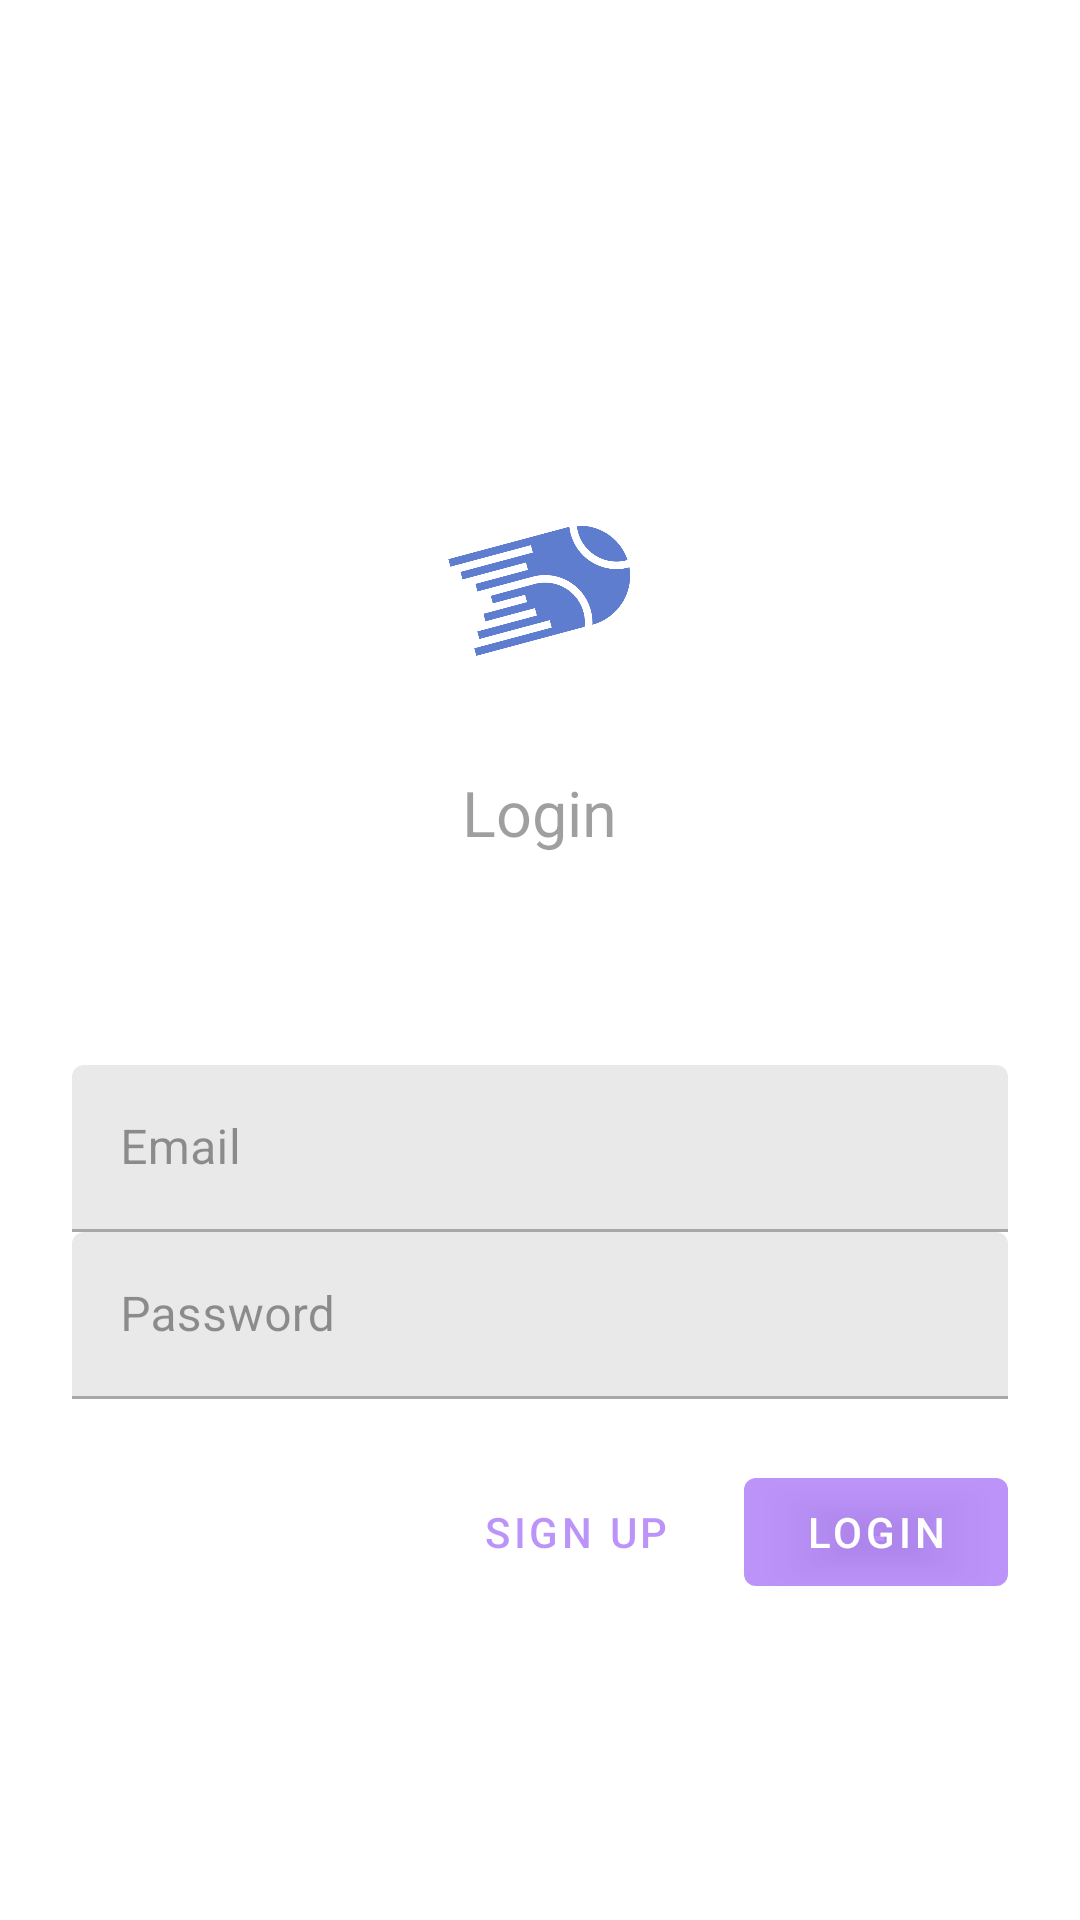

Screen size 1080 x 1920. Icon name, then its center in pixels as (x,y):
tennis tracker: (539,591)
